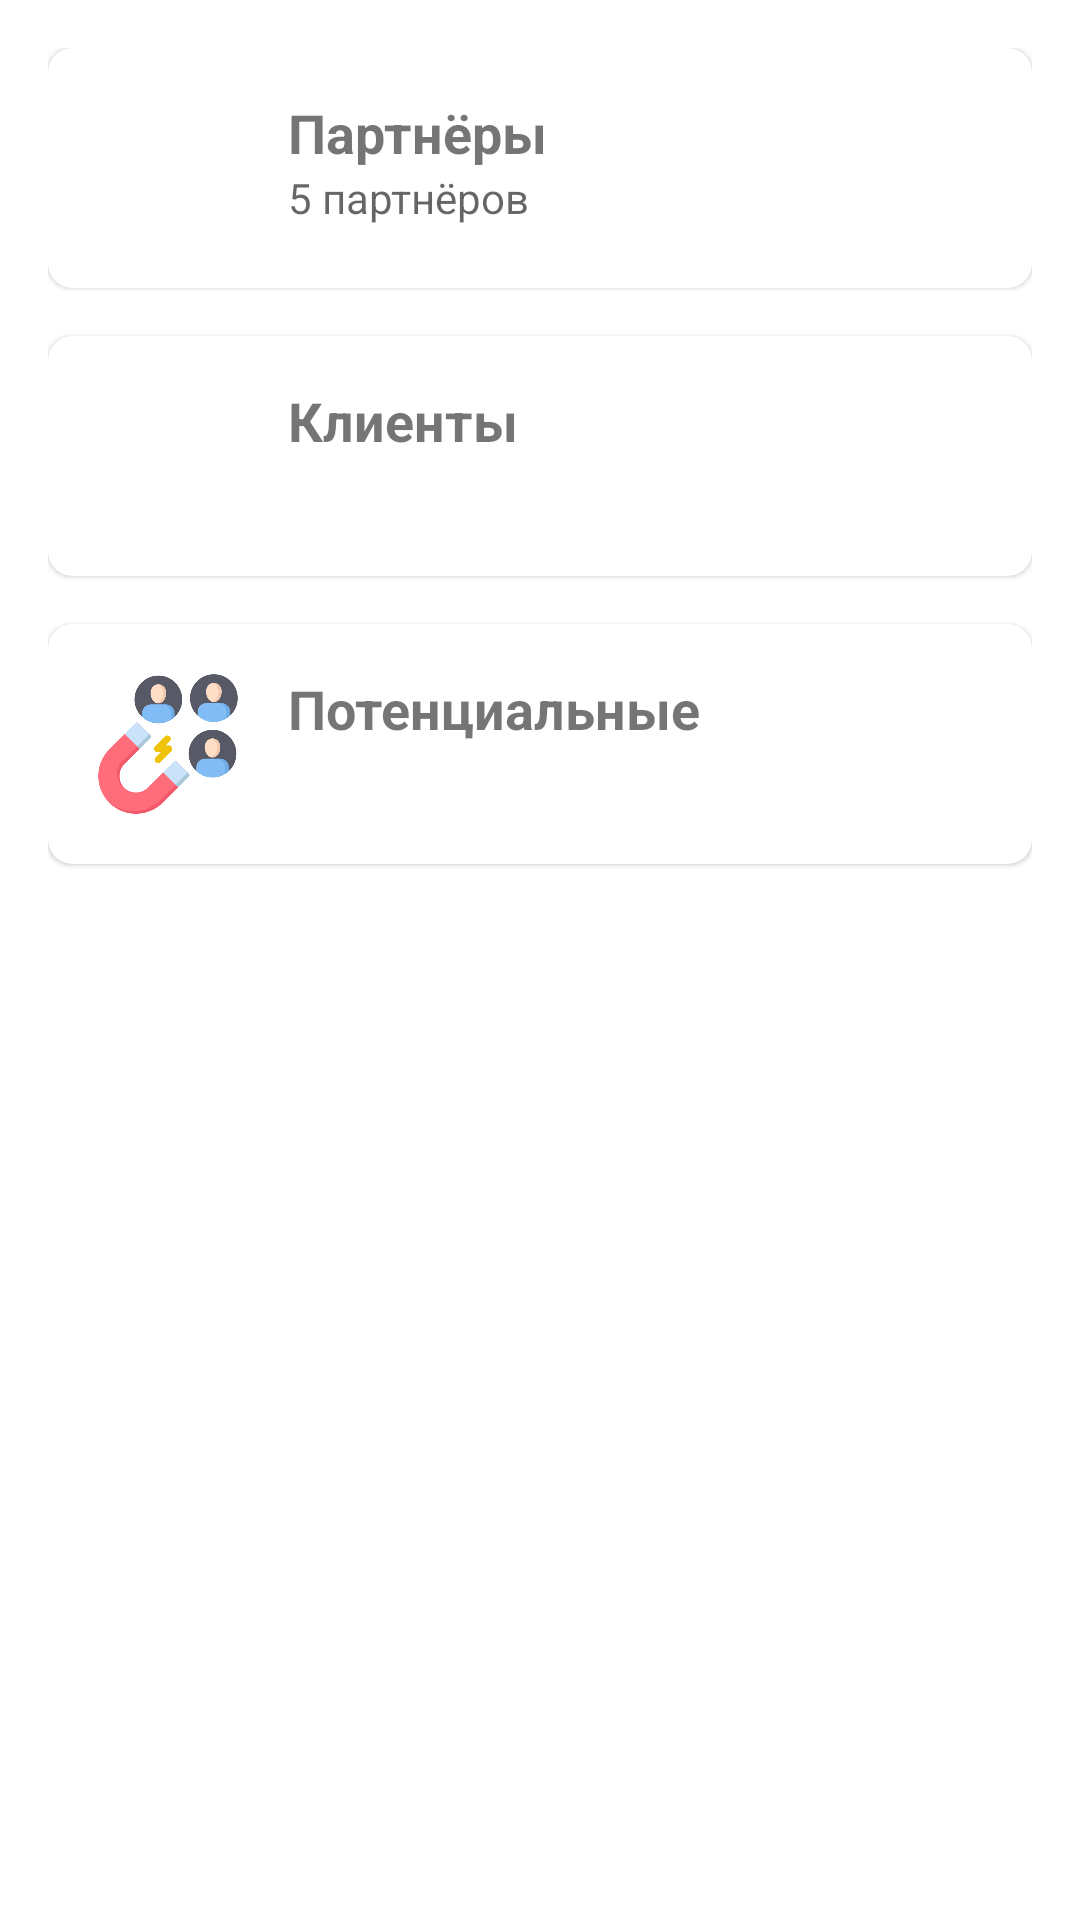

Icons on this 1080 x 1920 Android screen, each with the point to tap as point (x, y):
leads: point (168, 744)
